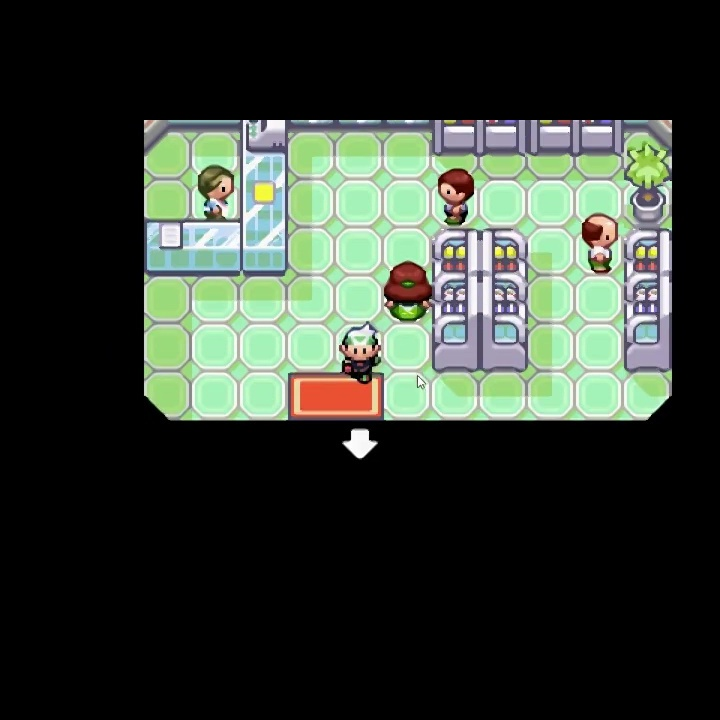agent: (338, 320, 385, 384)
exit: (285, 369, 386, 479)
npc: (381, 259, 432, 322), (580, 211, 621, 275), (436, 166, 476, 226), (196, 163, 235, 219)
